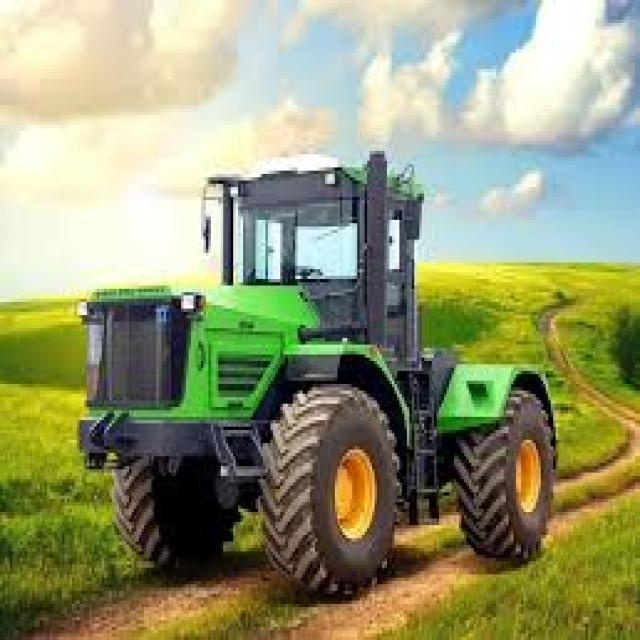Tratores - v5 YOLO V8L 2024-11-13: (77, 155, 554, 600)
